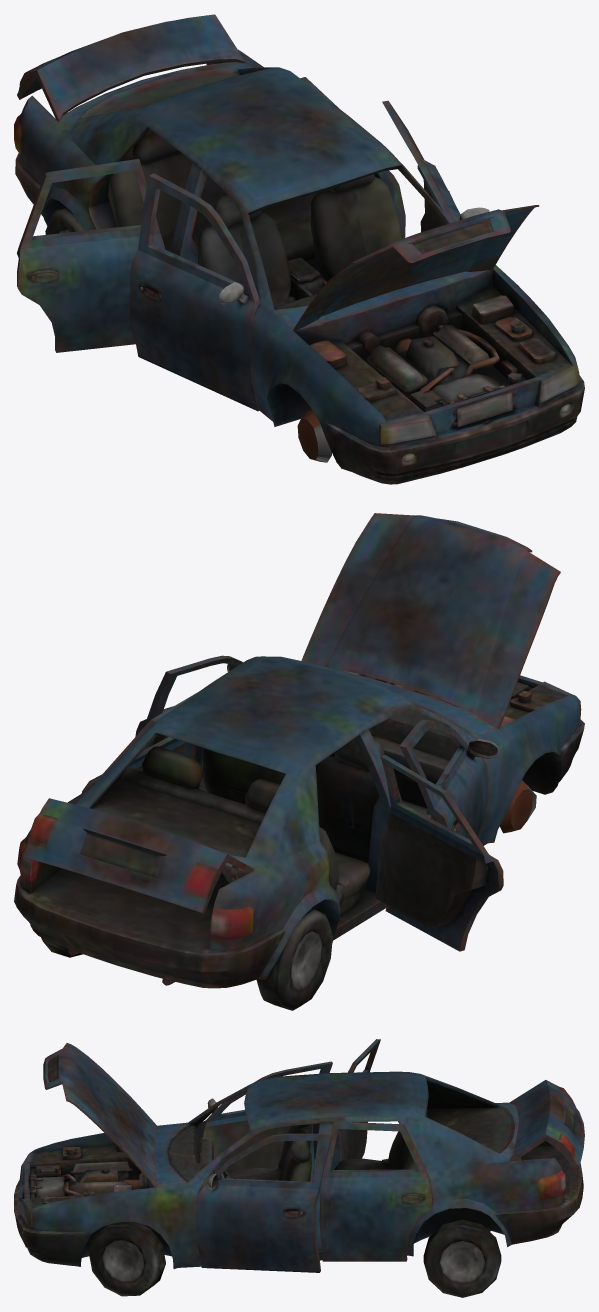
The model's file is prop_sedanwreck.glb.
3 views of the same model, one above another, from view 1: azimuth 30°, elevation 25°; view 2: azimuth 150°, elevation 25°; view 3: azimuth 270°, elevation 25° (orthographic). The views are drawn at different scales.
Visible parts, largest first — view 1: KUZA_0, Seats.001_6, ON QAPI_2, ARXA QAPI_3, Engine.001_8, BAQAJ_4, KAPOT_1, ON QAPI.001_12, SALON_5, TEKER.002_15, TEKER.003_11; view 2: KUZA_0, KAPOT_1, Seats.001_6, ARXA QAPI_3, BAQAJ_4, ON QAPI_2, TEKER.003_11, SALON_5, ON QAPI.001_12, TEKER.002_15, ARXA QAPI.001_13, Engine.001_8; view 3: KUZA_0, ON QAPI.001_12, ARXA QAPI.001_13, KAPOT_1, TEKER.001_14, TEKER.004_10, BAQAJ_4, ON QAPI_2, Engine.001_8, Seats.001_6, SALON_5, ARXA QAPI_3.
Boxes of the visible parts, left/top/right/bottom form: KUZA_0: left=14, top=49, right=584, bottom=484; Seats.001_6: left=108, top=130, right=402, bottom=306; ON QAPI_2: left=129, top=173, right=259, bottom=411; ARXA QAPI_3: left=17, top=159, right=165, bottom=352; Engine.001_8: left=309, top=295, right=555, bottom=411; BAQAJ_4: left=17, top=14, right=245, bottom=121; KAPOT_1: left=293, top=205, right=539, bottom=331; ON QAPI.001_12: left=382, top=100, right=489, bottom=232; SALON_5: left=274, top=257, right=326, bottom=309; TEKER.002_15: left=297, top=410, right=331, bottom=462; TEKER.003_11: left=45, top=207, right=84, bottom=234; KUZA_0: left=14, top=656, right=584, bottom=988; KAPOT_1: left=301, top=513, right=560, bottom=728; Seats.001_6: left=120, top=737, right=431, bottom=915; ARXA QAPI_3: left=375, top=755, right=503, bottom=951; BAQAJ_4: left=23, top=798, right=253, bottom=913; ON QAPI_2: left=399, top=719, right=498, bottom=838; TEKER.003_11: left=256, top=908, right=332, bottom=1010; SALON_5: left=319, top=710, right=458, bottom=826; ON QAPI.001_12: left=135, top=655, right=243, bottom=791; TEKER.002_15: left=499, top=780, right=536, bottom=833; ARXA QAPI.001_13: left=81, top=692, right=197, bottom=793; Engine.001_8: left=332, top=668, right=549, bottom=727; KUZA_0: left=14, top=1071, right=583, bottom=1268; ON QAPI.001_12: left=195, top=1133, right=332, bottom=1272; ARXA QAPI.001_13: left=319, top=1122, right=432, bottom=1261; KAPOT_1: left=43, top=1043, right=157, bottom=1187; TEKER.001_14: left=423, top=1219, right=501, bottom=1297; TEKER.004_10: left=88, top=1221, right=165, bottom=1296; BAQAJ_4: left=509, top=1080, right=584, bottom=1168; ON QAPI_2: left=198, top=1061, right=332, bottom=1181; Engine.001_8: left=35, top=1145, right=148, bottom=1203; Seats.001_6: left=223, top=1109, right=427, bottom=1181; SALON_5: left=168, top=1124, right=237, bottom=1192; ARXA QAPI_3: left=330, top=1039, right=380, bottom=1169.
Bounding box in the file's own units: 12.73 × 7.76 × 21.34.
Materials: 1 (1 with a texture image).
